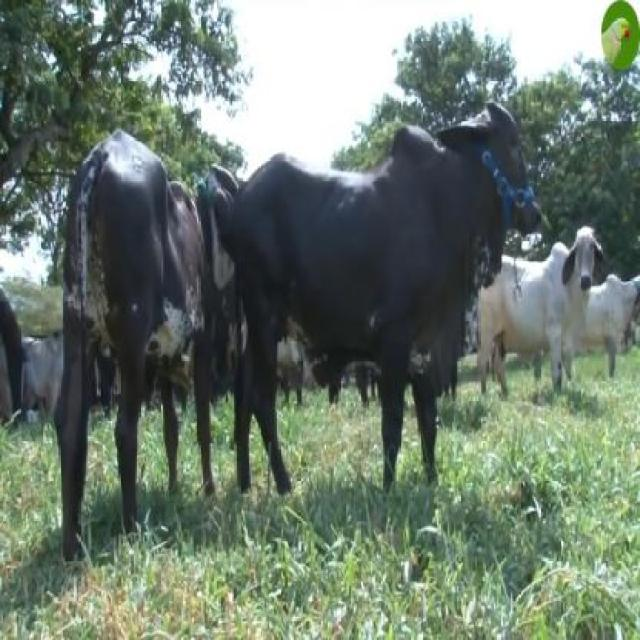Cow: (229, 101, 540, 502)
